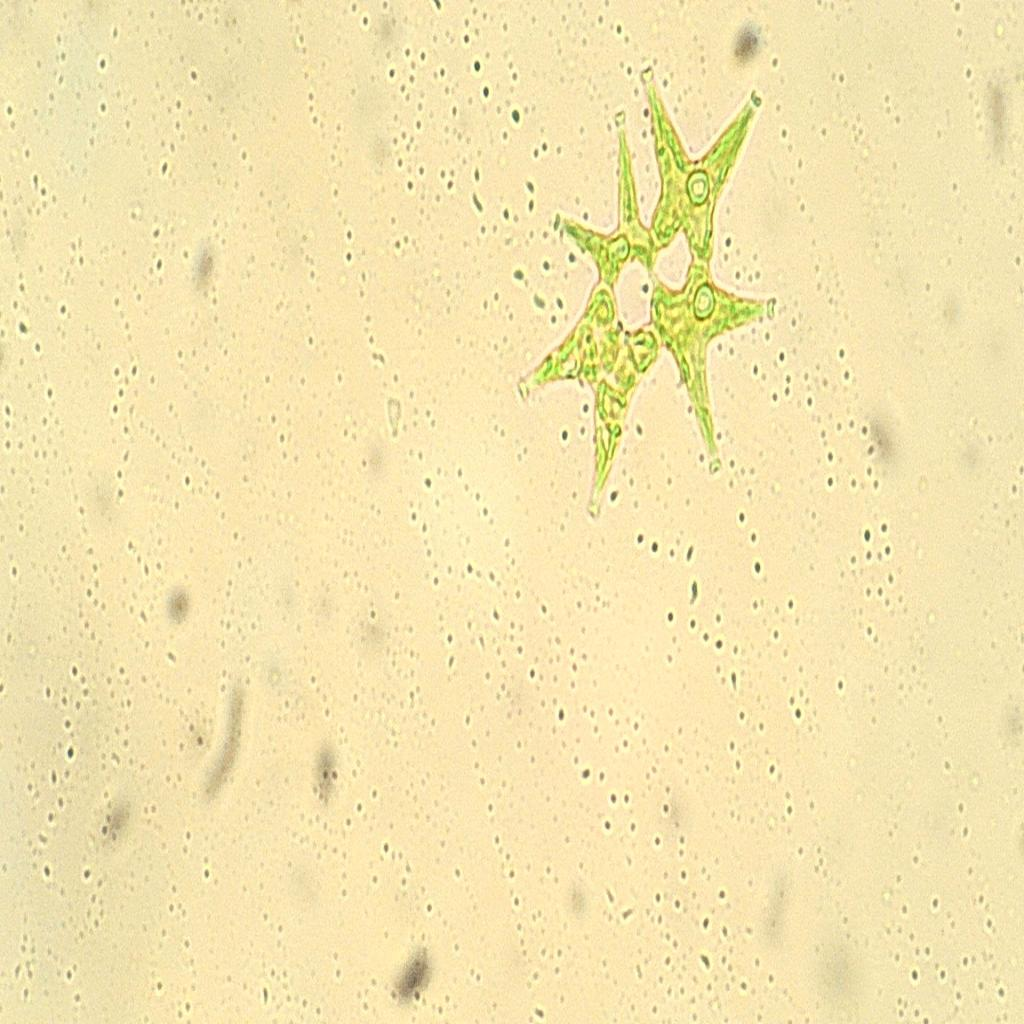Pediastrum_75FO: (498, 45, 778, 539)
